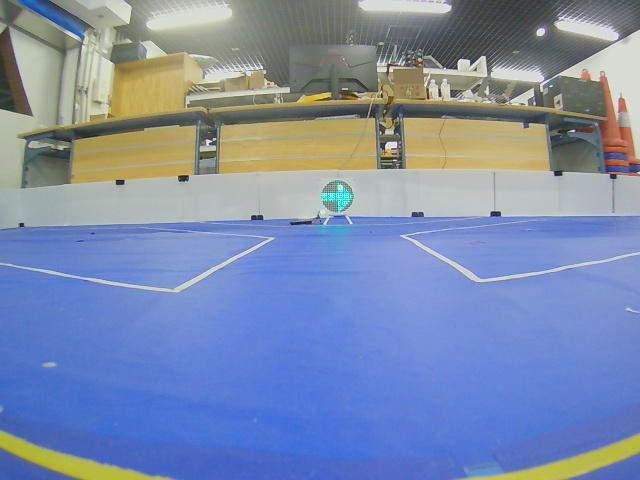right_green: (321, 180, 354, 213)
